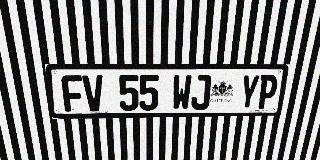5: (119, 75, 139, 111), (139, 75, 159, 111)
F: (61, 75, 85, 112)
J: (190, 75, 211, 110)
P: (256, 75, 279, 109)
V: (82, 75, 105, 111)
W: (172, 75, 192, 110)
Y: (238, 75, 260, 109)
